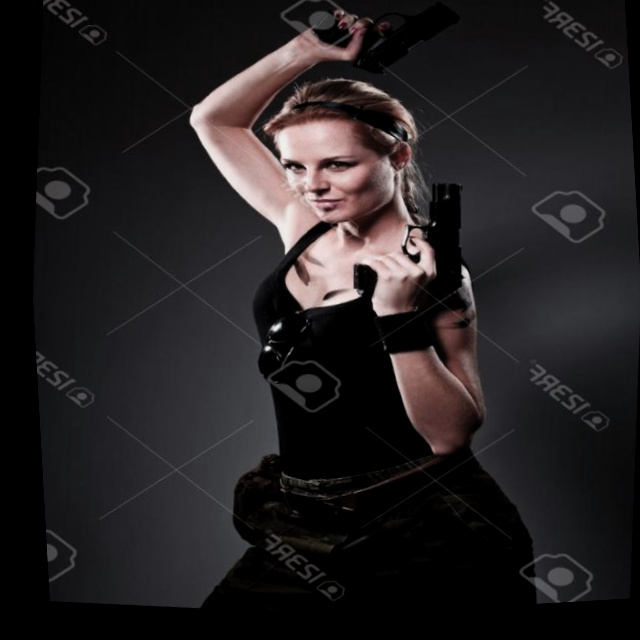gun: (240, 0, 486, 106), (330, 164, 482, 330)
